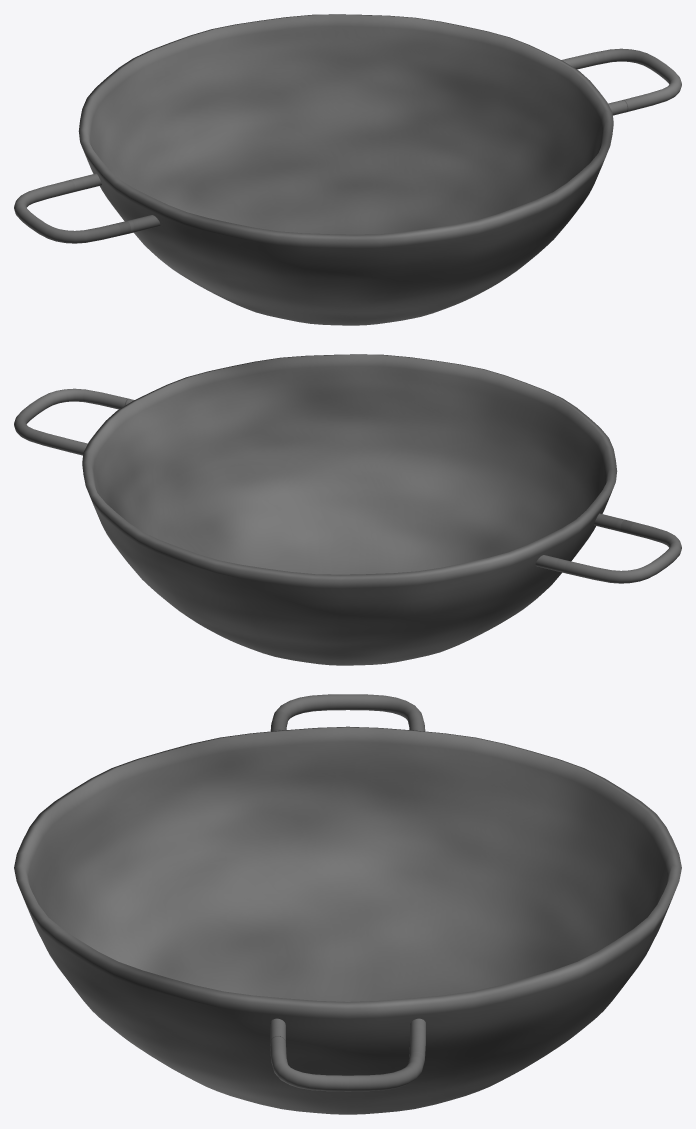
The model's file is Cooking_Vat.glb.
3 views of the same model, one above another, from view 1: azimuth 30°, elevation 25°; view 2: azimuth 150°, elevation 25°; view 3: azimuth 270°, elevation 25° (orthographic). The views are drawn at different scales.
Visible parts, largest first — view 1: Sphere; view 2: Sphere; view 3: Sphere.
Part boxes in pixels (x1=…): Sphere: x1=14, y1=14, x2=681, y2=325; Sphere: x1=14, y1=354, x2=681, y2=665; Sphere: x1=14, y1=694, x2=681, y2=1114.
Bounding box in the file's own units: 2.73 × 0.7119 × 1.98.
1 material, 1 textured.
